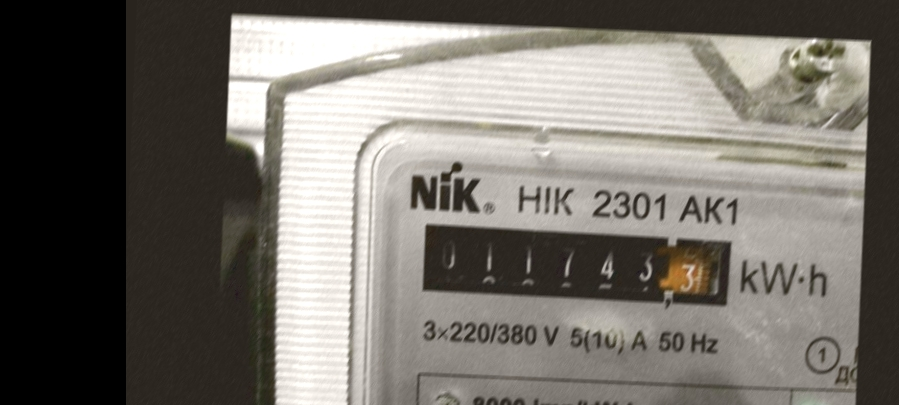0: (439, 236, 460, 273)
1: (522, 241, 539, 276), (485, 239, 497, 273)
3: (636, 249, 656, 285), (679, 263, 699, 296)
4: (599, 247, 617, 282)
7: (560, 245, 579, 279)
screen: (409, 212, 746, 320)
